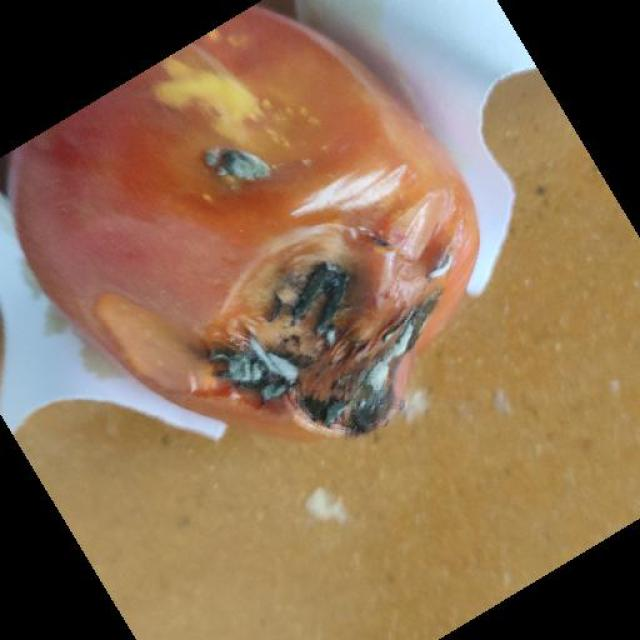Stale_tomato: (7, 7, 503, 448)
